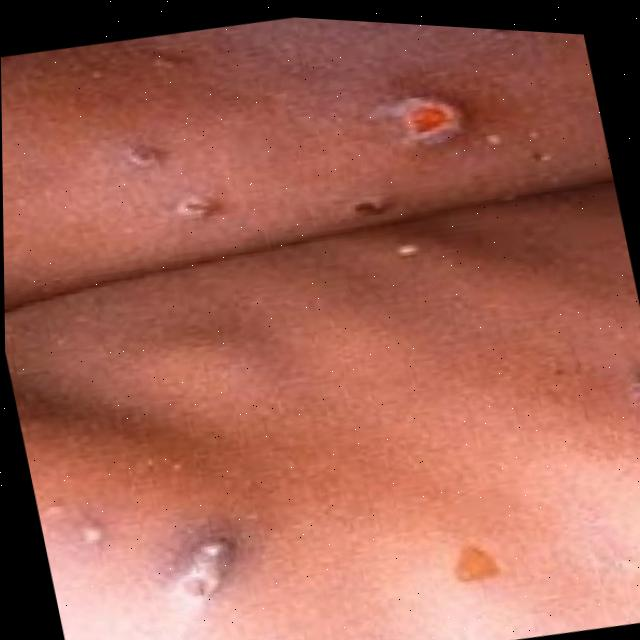Eczema: (147, 513, 292, 640), (121, 127, 228, 236), (385, 82, 465, 157), (632, 380, 640, 434)
